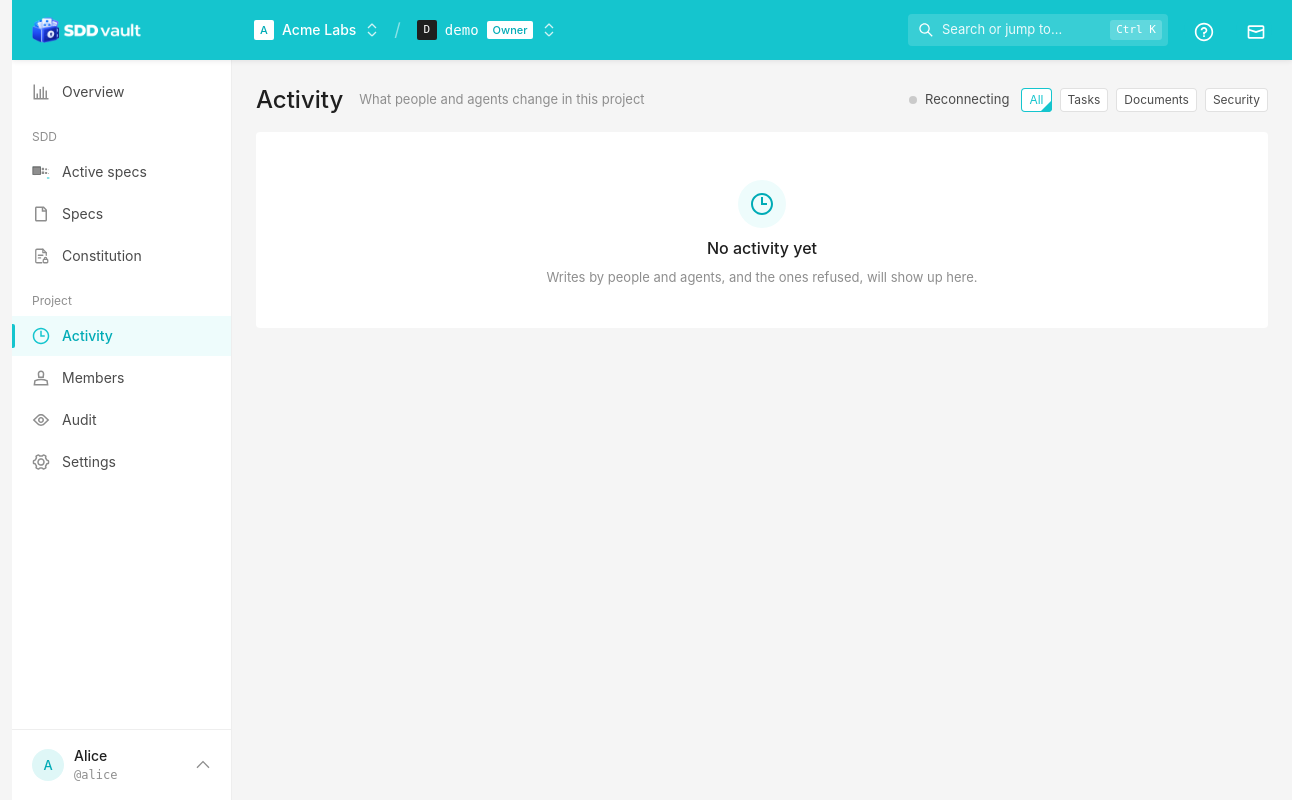
opening an account item switches the sidebar and the way back returns to the page
Expected: the heading "Activity" is shown, [256,84,343,116]
Click the button with aria-label "User menu": (122, 765) [12,730,231,799]
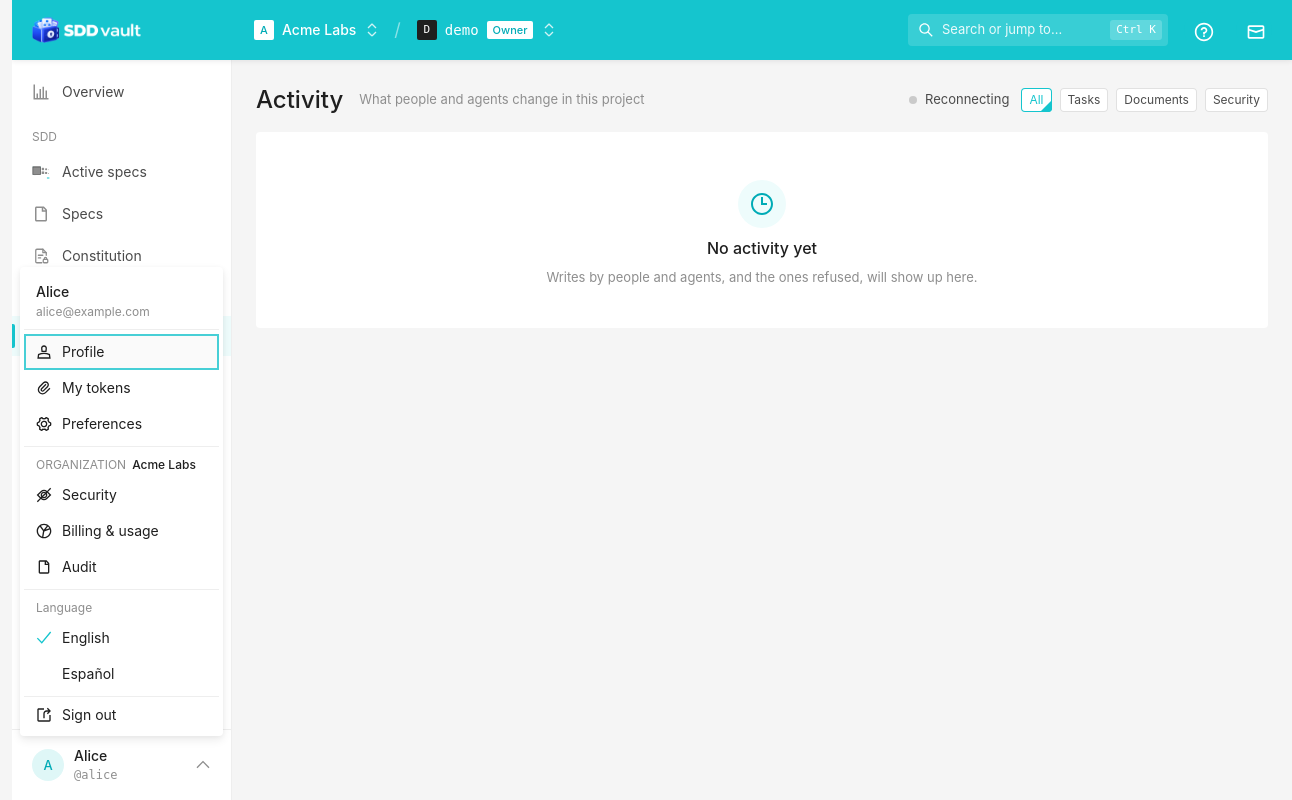
Click the menu item "My tokens": (122, 388) [24,370,219,406]
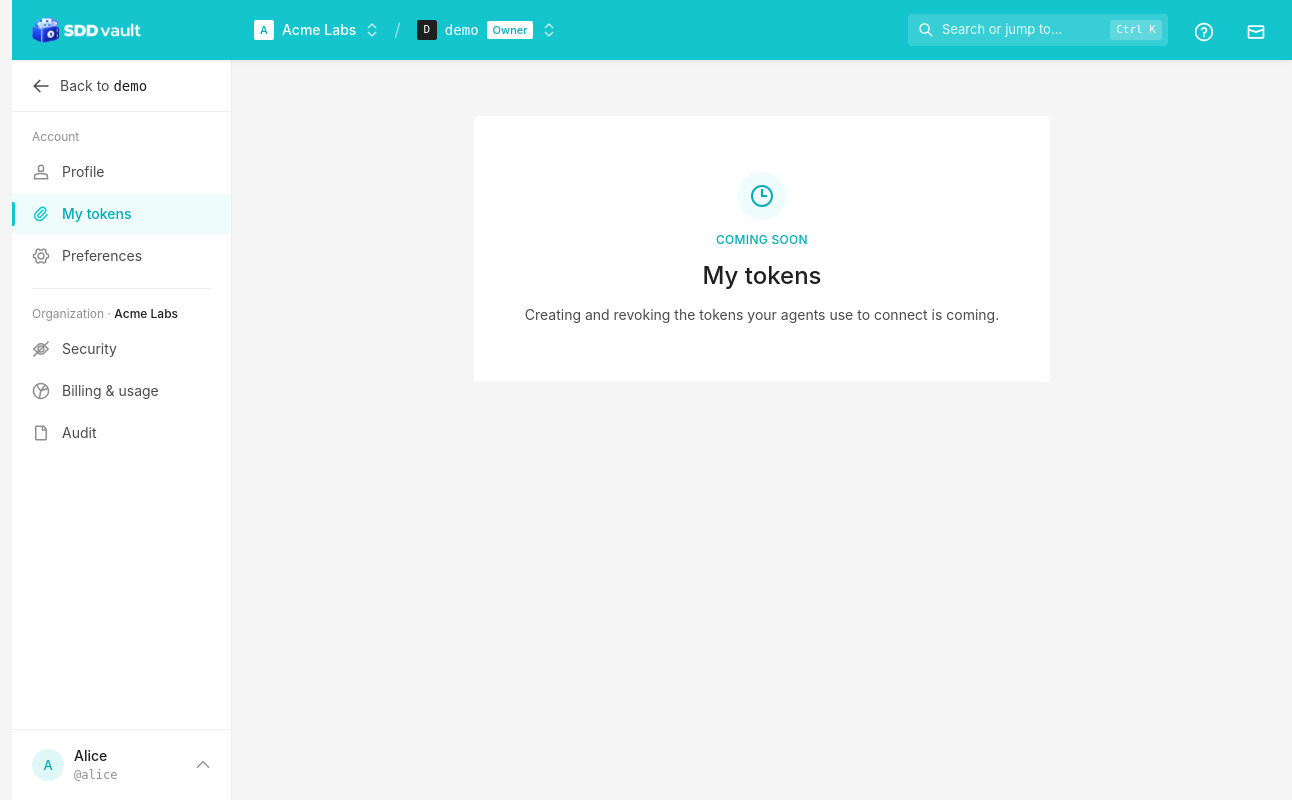
Now the heading "My tokens" is shown, box [702,260,822,292]
Now the text "Account" is shown, box [32,129,79,144]
Now the link "Back to demo" is shown
Click the link "Back to demo": (122, 86) [12,60,231,112]
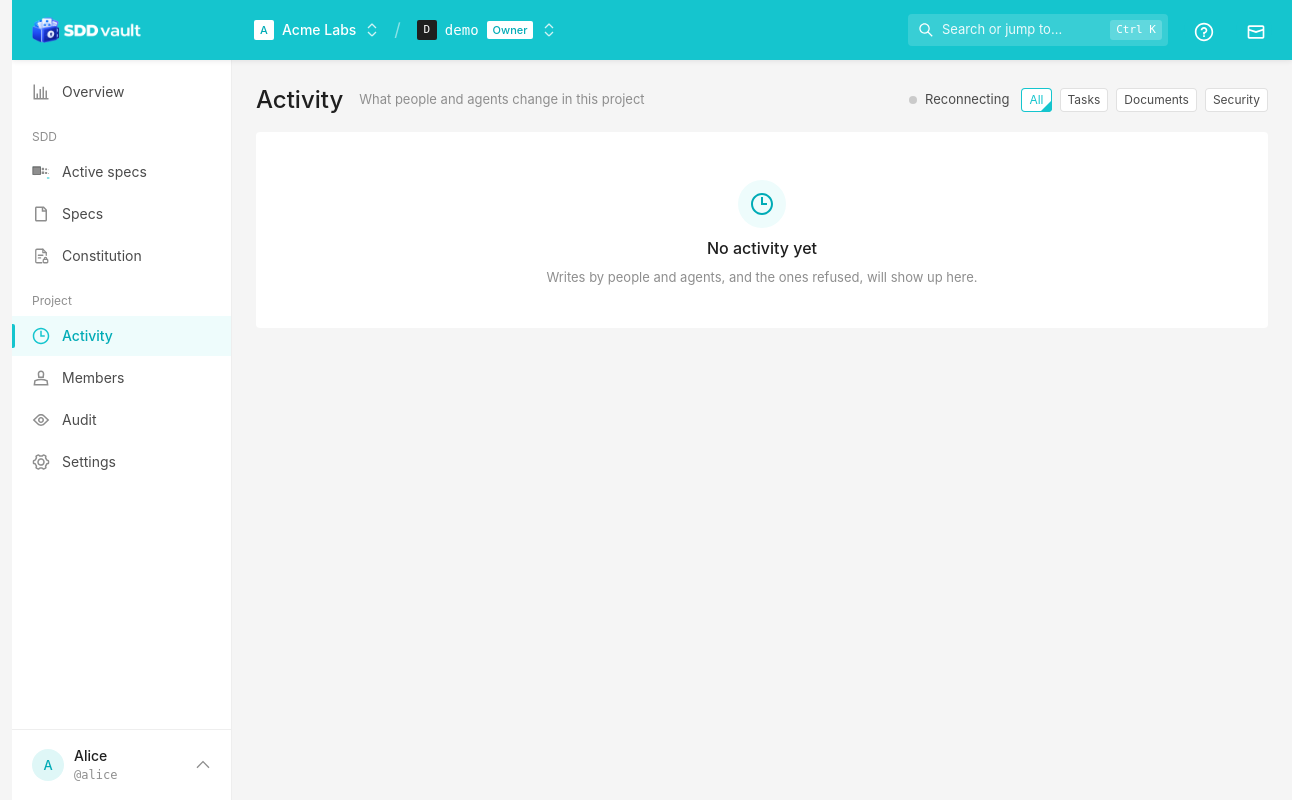
Now the heading "Activity" is shown, box [256,84,343,116]
Now the text "Account" is gone
